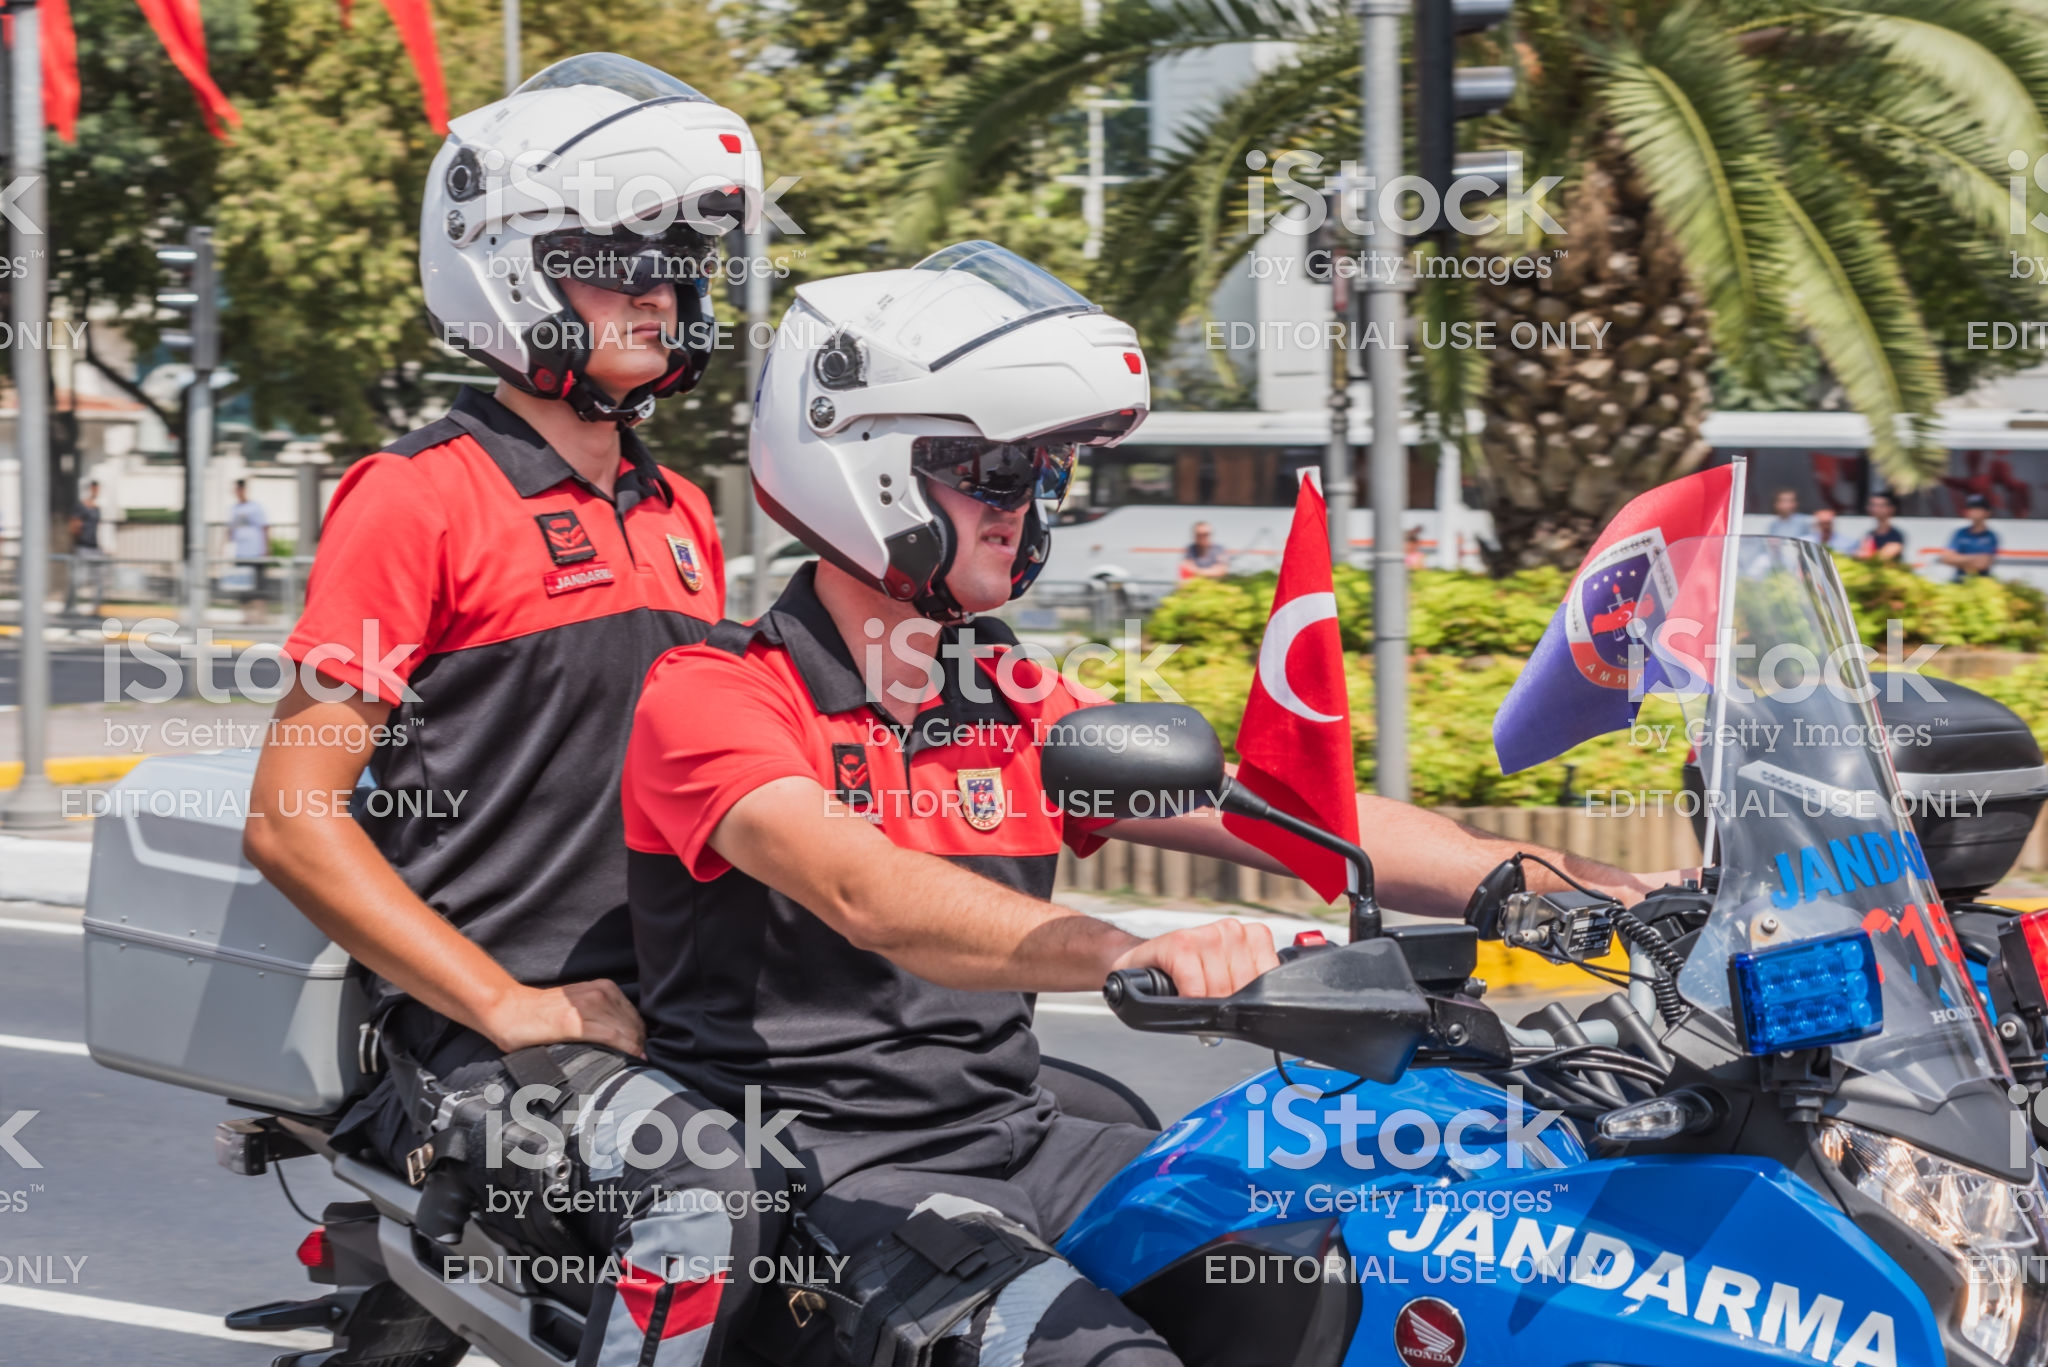helmet: (727, 253, 1148, 590), (400, 92, 767, 334)
